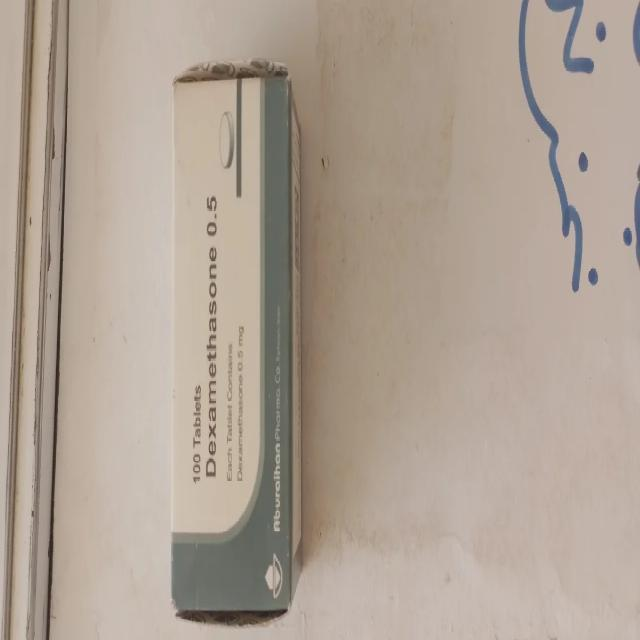drug-name: (204, 196, 221, 483)
